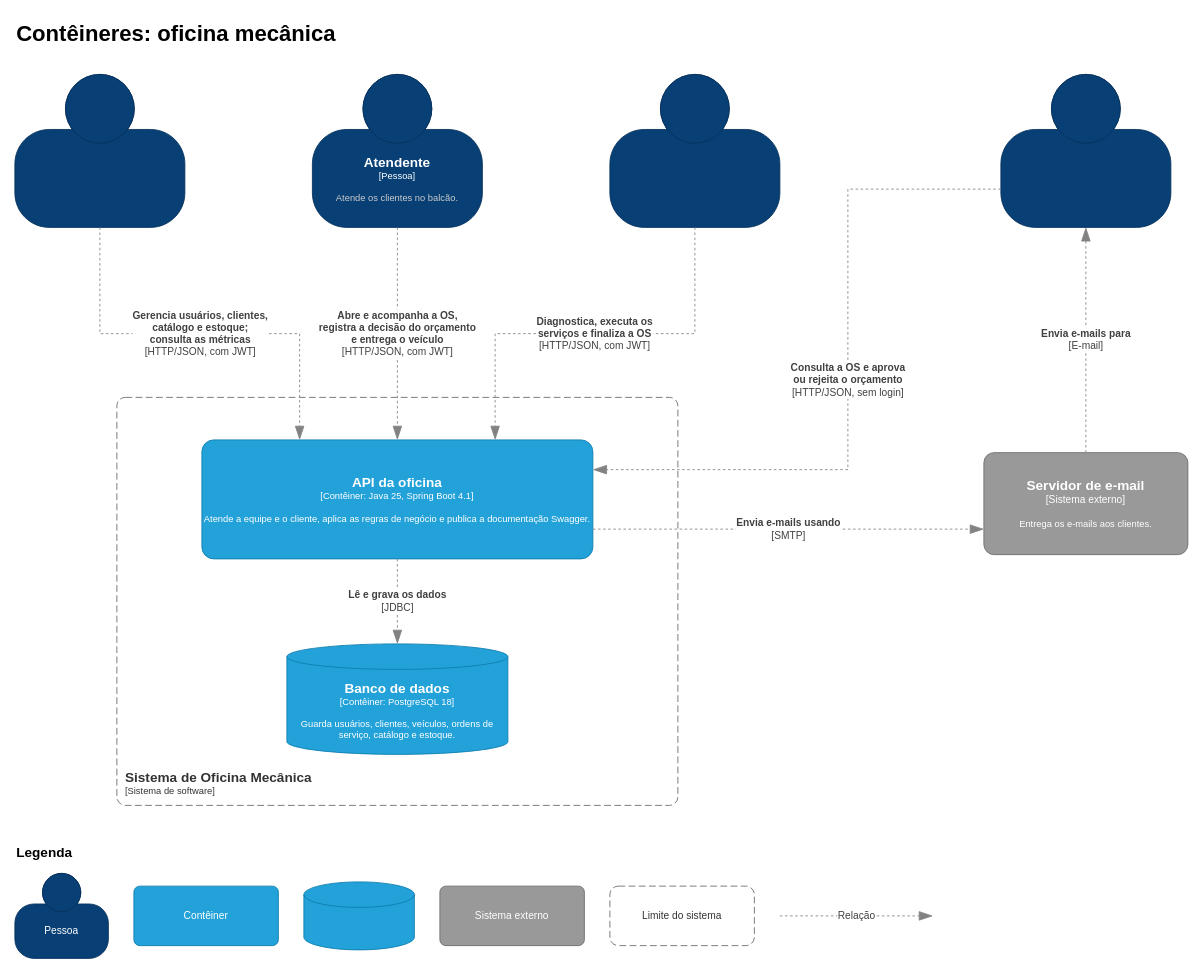
Some shapes in this 1203 by 973 pixel diagram are drawn without their labels. The centre of each missing label's shape, as x and y in pixels:
Administrador [Pessoa] Responsável pela gestão da oficina.: the point at 99,150
Banco de dados: the point at 358,915
Cliente [Pessoa] Dono do veículo. Não tem login no sistema.: the point at 1085,150
Mecânico [Pessoa] Faz a manutenção dos veículos.: the point at 694,150
